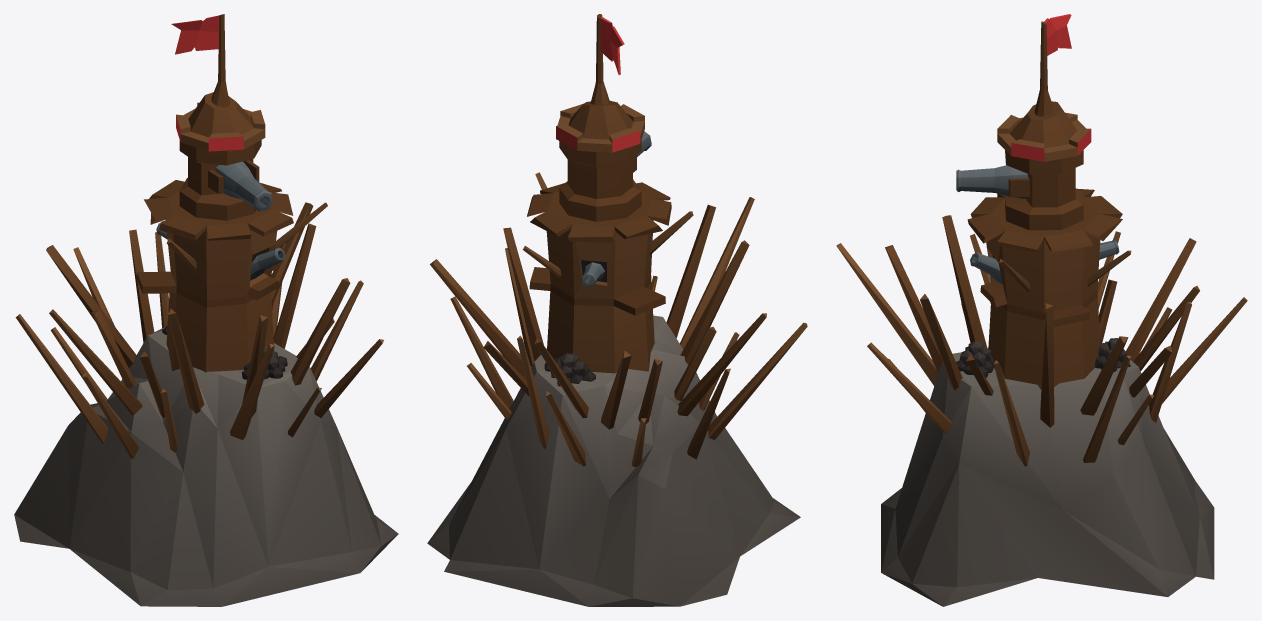
Rendered from Enemy_Tower.fbx.
3 renders of one model, left to right at view 1: azimuth 30°, elevation 25°; view 2: azimuth 150°, elevation 25°; view 3: azimuth 270°, elevation 25°, orthographic.
Visible parts, largest first — view 1: EnemyTower, TowerCanon; view 2: EnemyTower, TowerCanon; view 3: EnemyTower, TowerCanon.
Boxes of the visible parts, x1,y1,x2,y2 form: EnemyTower: (14,14,398,606); TowerCanon: (179,140,273,220); EnemyTower: (427,14,807,606); TowerCanon: (559,131,651,221); EnemyTower: (836,14,1247,606); TowerCanon: (956,150,1083,230).
Size of what is drawn, in the model's own units: 577 by 929 by 664.
